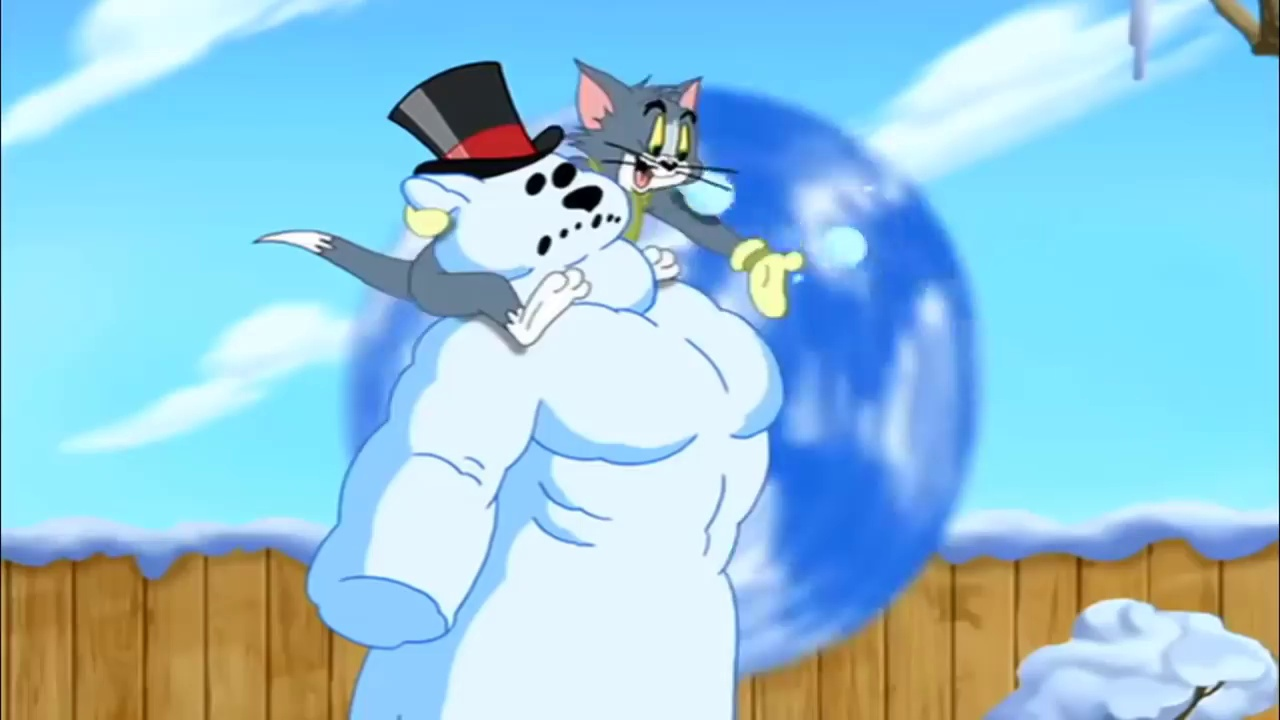face: (616, 93, 703, 193)
